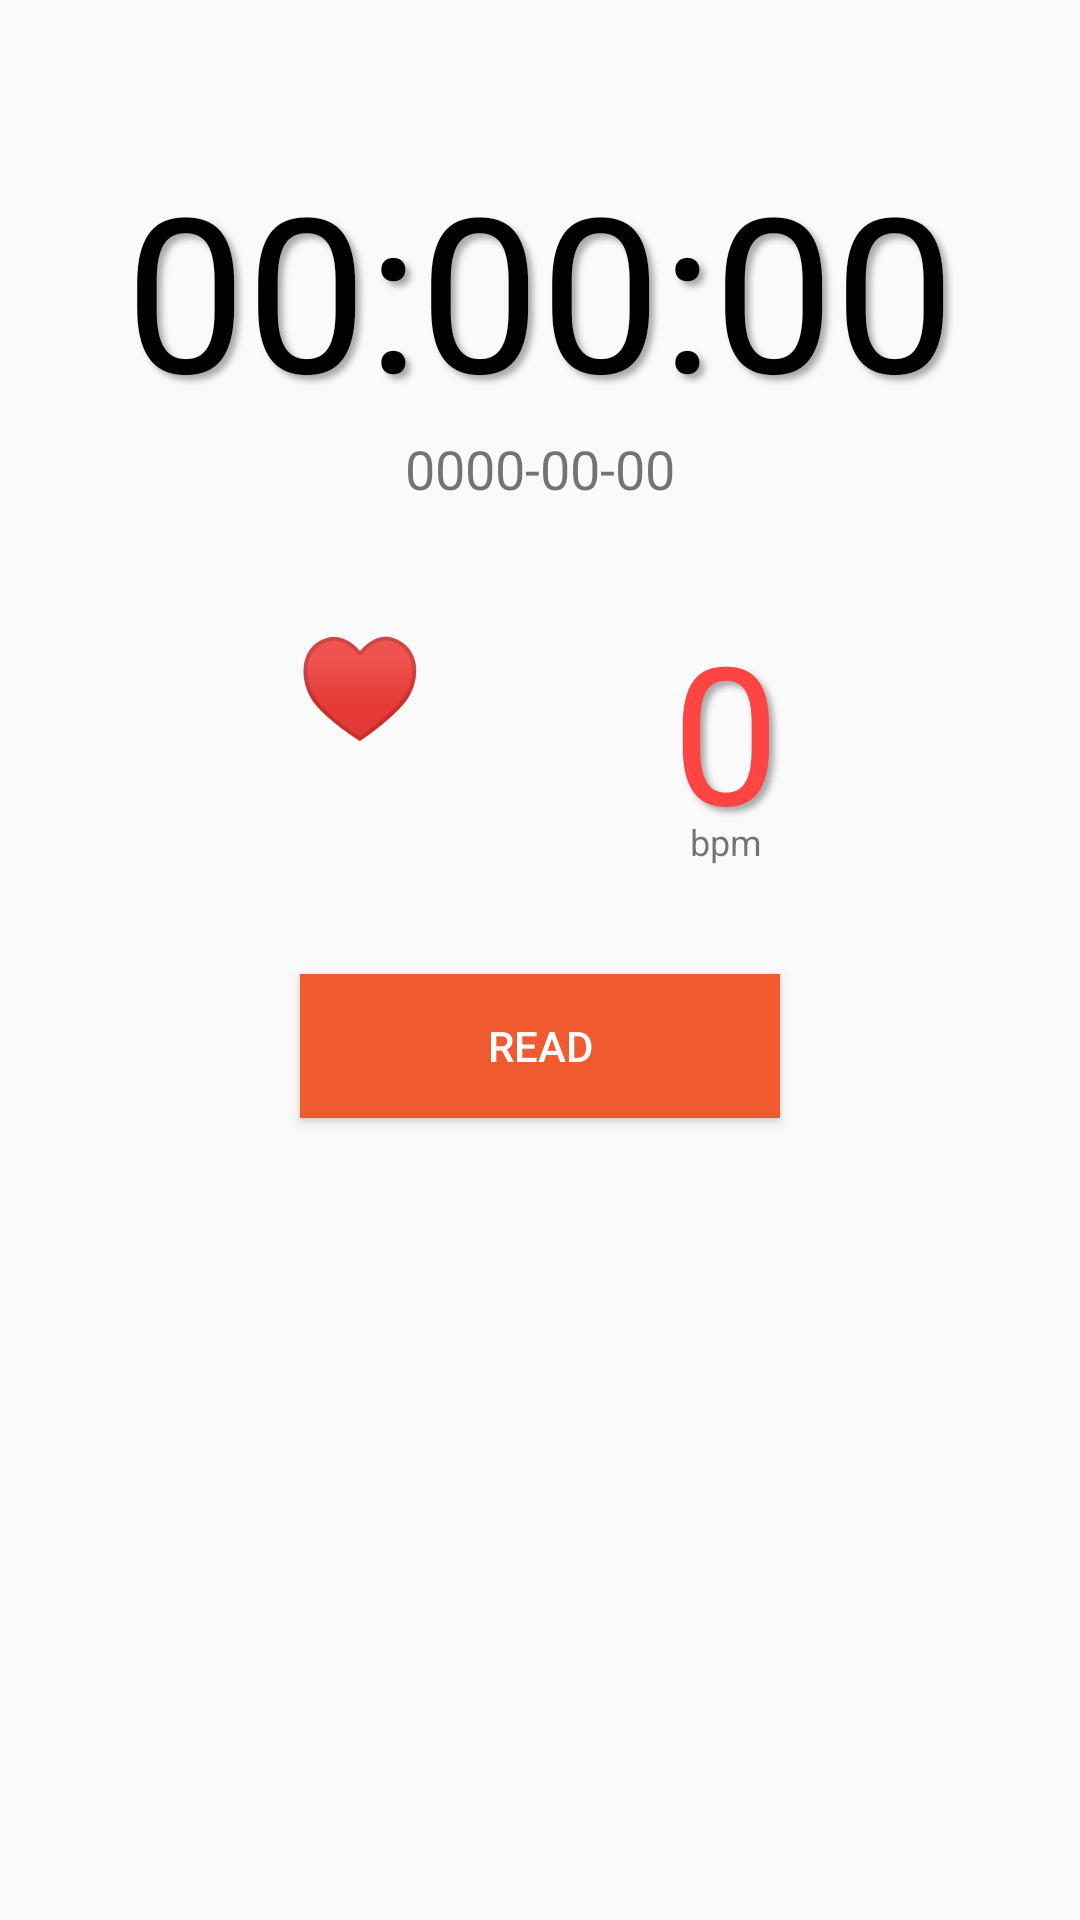

Icon bounding boxes for this 1080w x 1920h phone screenshot, format (x1, y1, x2, y2):
heart: (303, 636, 417, 741)
